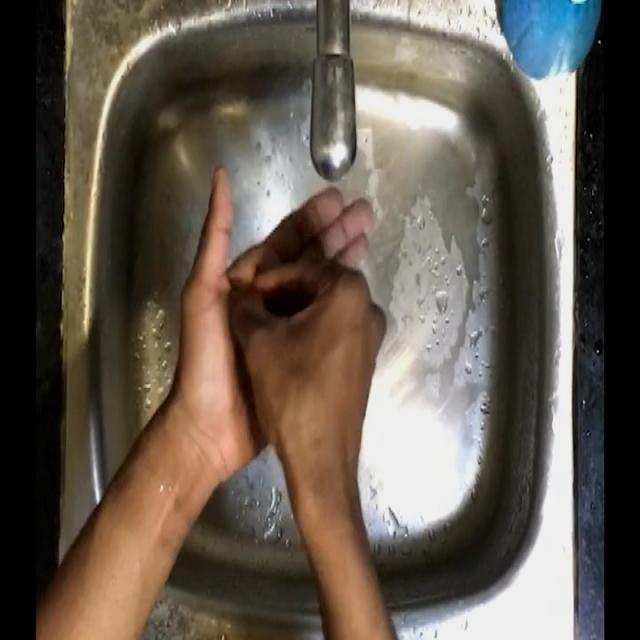step_6: (173, 158, 392, 490)
